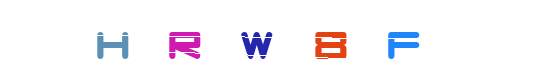8: (238, 0, 318, 80)
F: (290, 0, 370, 80)
H: (144, 0, 224, 80)
R: (216, 0, 296, 80)
W: (222, 0, 302, 80)
